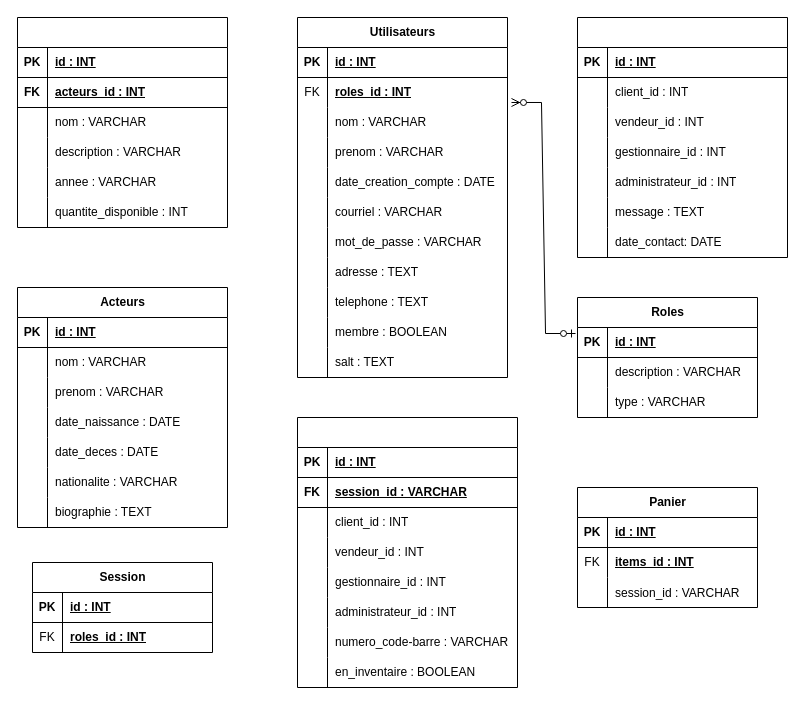
Some shapes in this 805 by 705 pixel diagram are drawn without their labels. The shapes that lost their labels are listed below. From the top down, each one's box as (x1, y1, x2, y2) in pixels, then its label:
(16, 16, 228, 228): Items
(576, 16, 788, 258): Reservations
(296, 416, 518, 688): Locations
